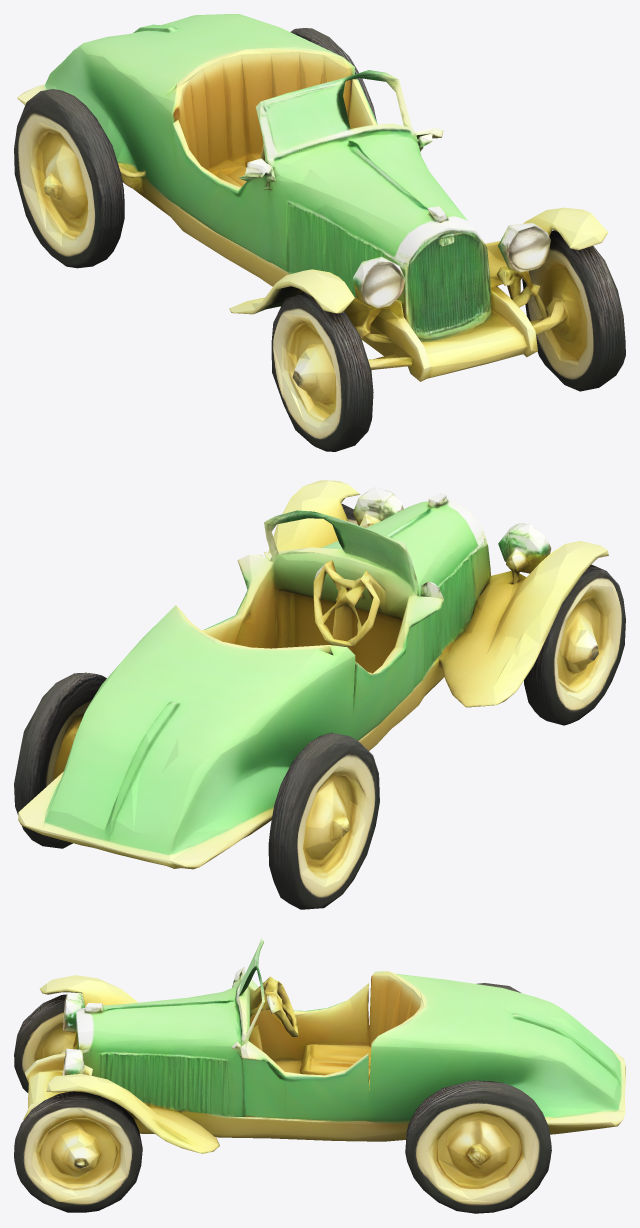
3 views of the same model, one above another, from view 1: azimuth 30°, elevation 25°; view 2: azimuth 150°, elevation 25°; view 3: azimuth 270°, elevation 25° (orthographic). The views are drawn at different scales.
Visible parts, largest first — view 1: model; view 2: model; view 3: model.
Part boxes in pixels (x1,y1,x2,y2): model: (14, 14, 625, 451); model: (14, 480, 625, 909); model: (14, 938, 625, 1213).
Bounding box in the file's own units: 0.8718 × 0.6844 × 1.9.
1 material, 1 textured.
